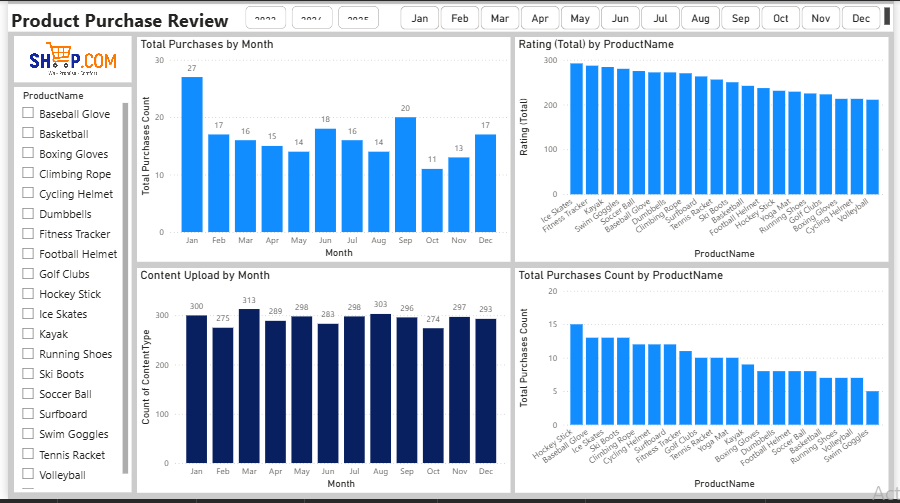

The dashboard page shown, as its layout file describes it:
{"tool":"powerbi","page":{"name":"Product Purchase Review","canvas":[1280,720],"ordinal":6},"visuals":[{"type":"columnChart","title":"Total Purchases by Month","fields":{"Y":["_Calculations.Total Purchases Count"],"Category":["Calendar.MonthNameShort"]},"box":[186.4,52.3,540,325],"z":0},{"type":"columnChart","title":"Content Upload by Month","fields":{"Category":["Calendar.MonthNameShort"],"Y":["CountNonNull(fact_engagement_data.ContentType)"]},"box":[186.5,386.4,540,325],"z":1000},{"type":"textbox","box":[0,3.9,1279.9,39.8],"z":2000},{"type":"advancedSlicerVisual","fields":{"Values":["Calendar.Year"]},"box":[338.1,7.7,198.7,38.7],"z":3000},{"type":"advancedSlicerVisual","fields":{"Values":["Calendar.MonthNameShort"]},"box":[563,6.9,710,39],"z":4000},{"type":"clusteredColumnChart","fields":{"Y":["_Calculations.Rating (Total)"],"Category":["dim_products.ProductName"]},"box":[732.5,51.4,540,325.5],"z":5000},{"type":"clusteredColumnChart","fields":{"Y":["_Calculations.Total Purchases Count"],"Category":["dim_products.ProductName"]},"box":[733.4,385.9,540,324.5],"z":6000},{"type":"slicer","fields":{"Values":["dim_products.ProductName"]},"box":[8.6,124.3,170,585.7],"z":7000},{"type":"actionButton","box":[8.6,50,170,67.1],"z":8000}]}

Visuals, with their boxes in screenshot pixels (x1, y1, x2, y2), scaled from the page's 1280x720 canvas onto the 900x503 screenshot:
"Total Purchases by Month" columnChart: {"left": 131, "top": 37, "right": 511, "bottom": 264}
"Content Upload by Month" columnChart: {"left": 131, "top": 270, "right": 511, "bottom": 497}
textbox: {"left": 0, "top": 3, "right": 899, "bottom": 31}
advancedSlicerVisual - Calendar.Year: {"left": 238, "top": 5, "right": 377, "bottom": 32}
advancedSlicerVisual - Calendar.MonthNameShort: {"left": 396, "top": 5, "right": 895, "bottom": 32}
clusteredColumnChart - _Calculations.Rating (Total) x dim_products.ProductName: {"left": 515, "top": 36, "right": 895, "bottom": 263}
clusteredColumnChart - _Calculations.Total Purchases Count x dim_products.ProductName: {"left": 516, "top": 270, "right": 895, "bottom": 496}
slicer - dim_products.ProductName: {"left": 6, "top": 87, "right": 126, "bottom": 496}
actionButton: {"left": 6, "top": 35, "right": 126, "bottom": 82}
